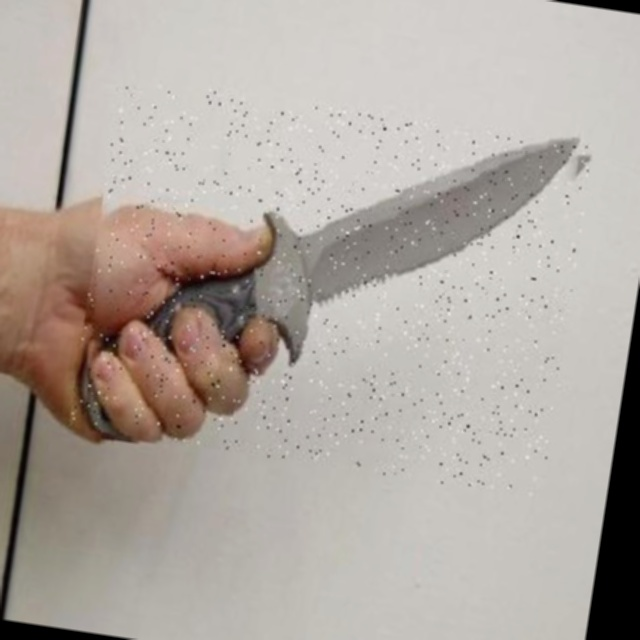Sharp-Object: (68, 76, 595, 498)
